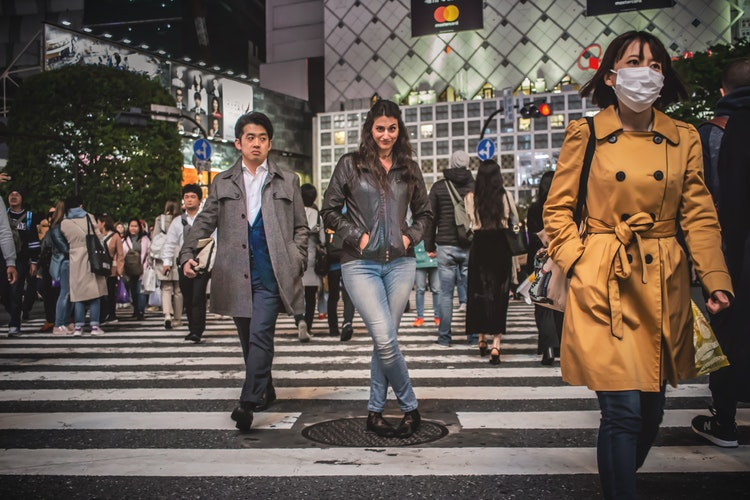mask: (616, 67, 665, 111)
